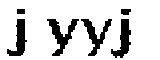j: (1, 7, 29, 60), (112, 8, 135, 60)
y: (42, 14, 79, 57), (81, 15, 111, 60)
